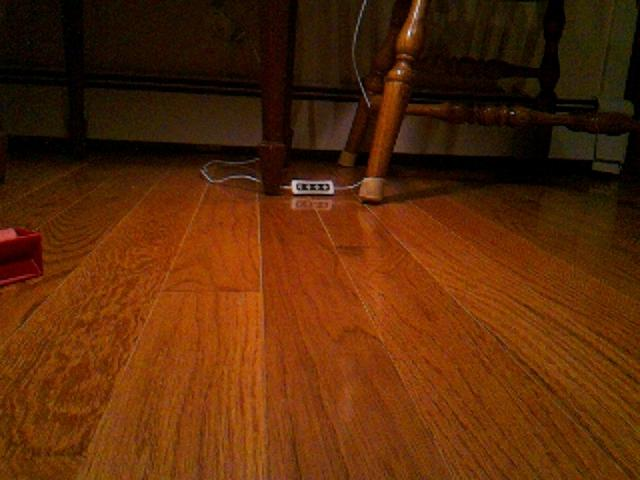red: (1, 225, 45, 290)
